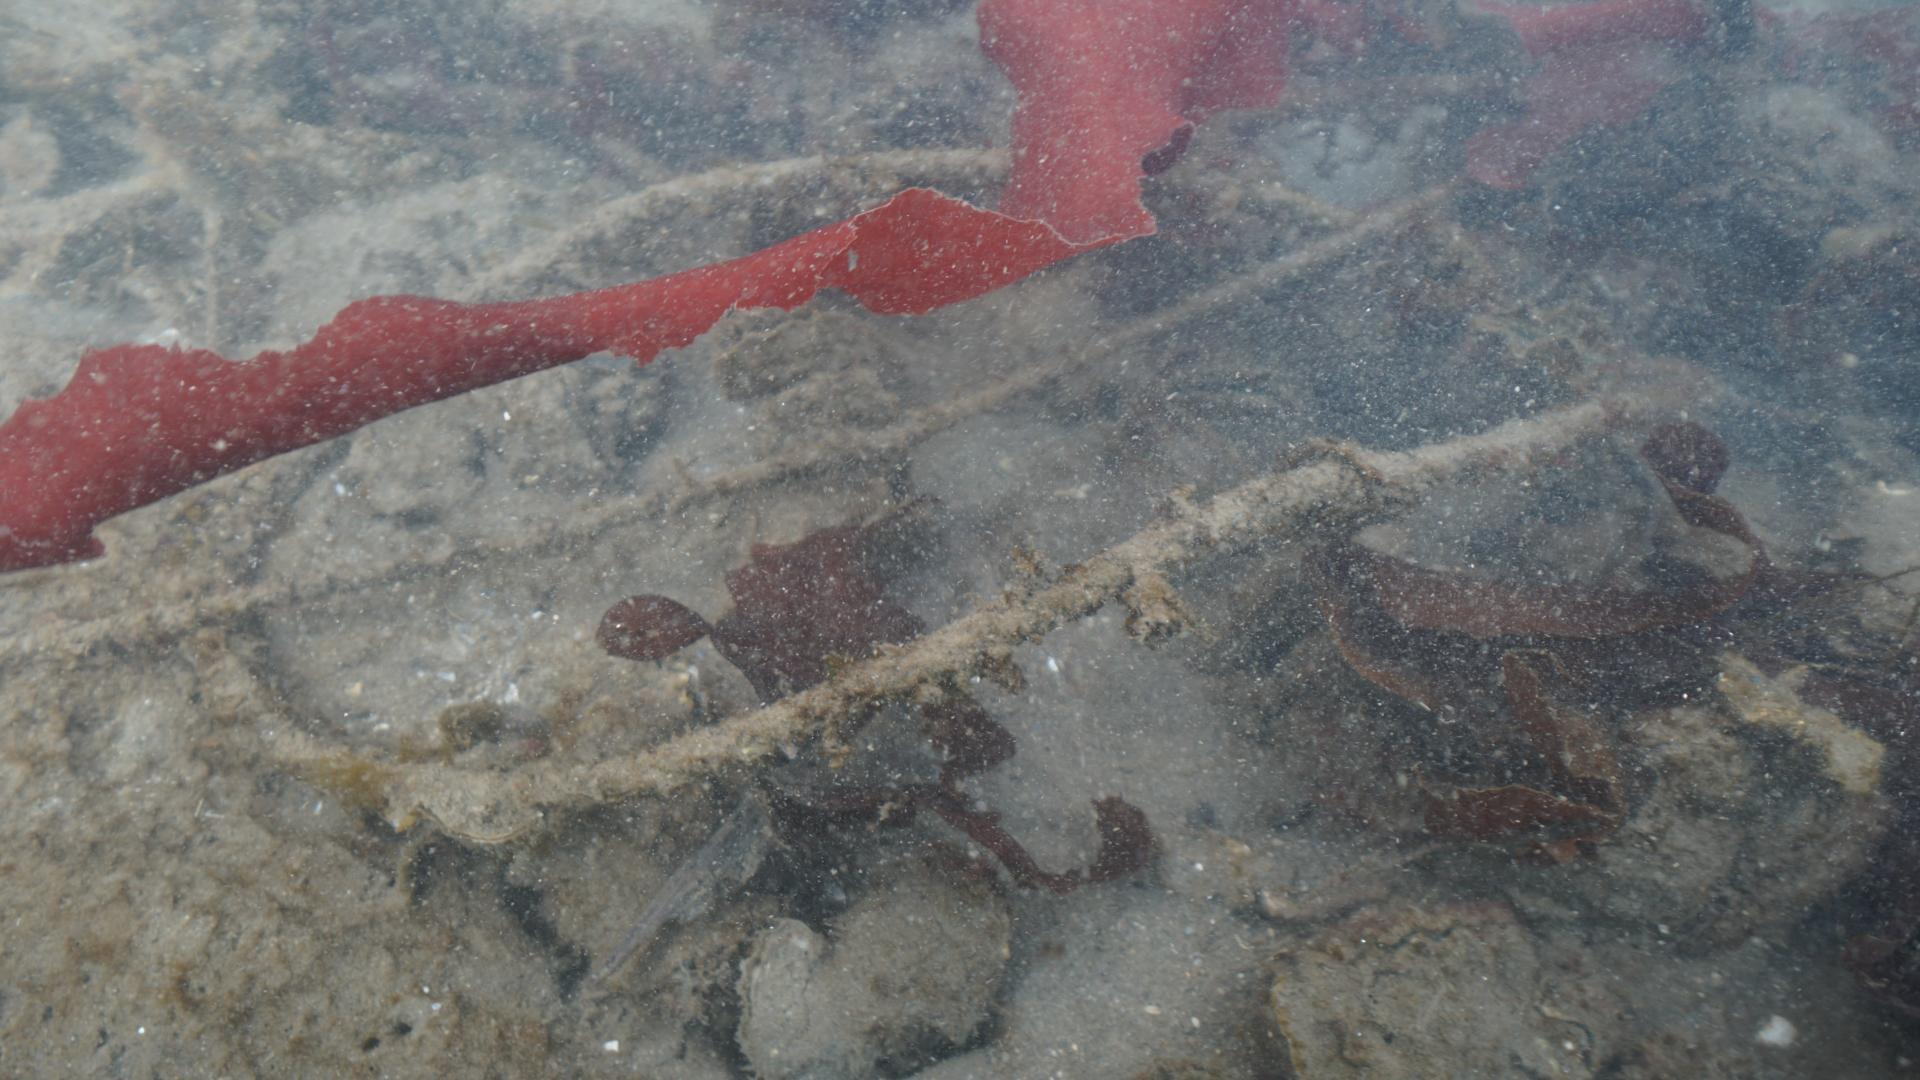rope: (193, 137, 1687, 811), (0, 165, 1501, 678)
